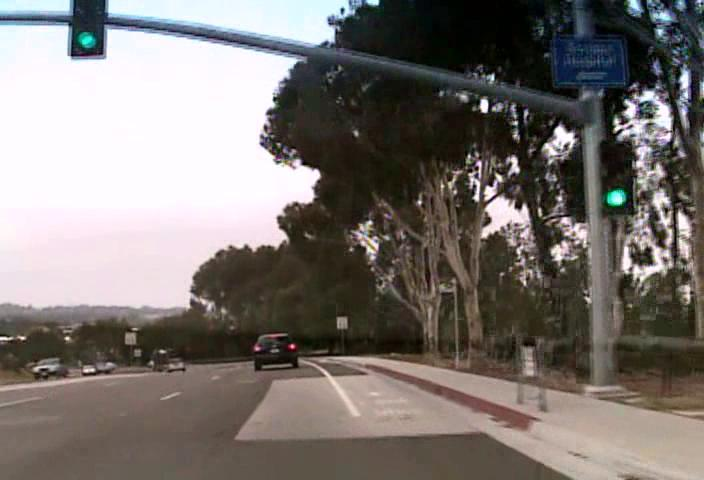speedLimitUrdbl: (336, 316, 348, 329)
